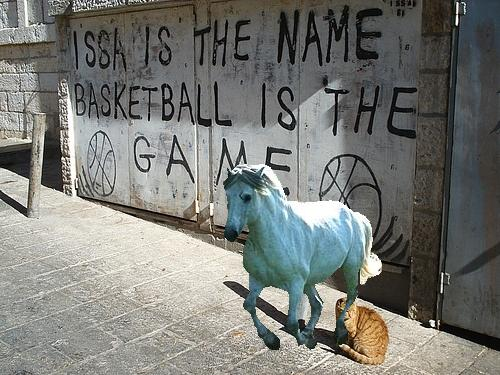tampered: (224, 165, 382, 350)
